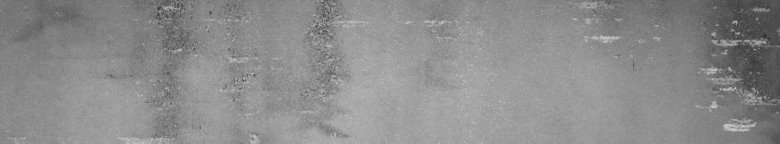hc: (582, 4, 776, 136)
